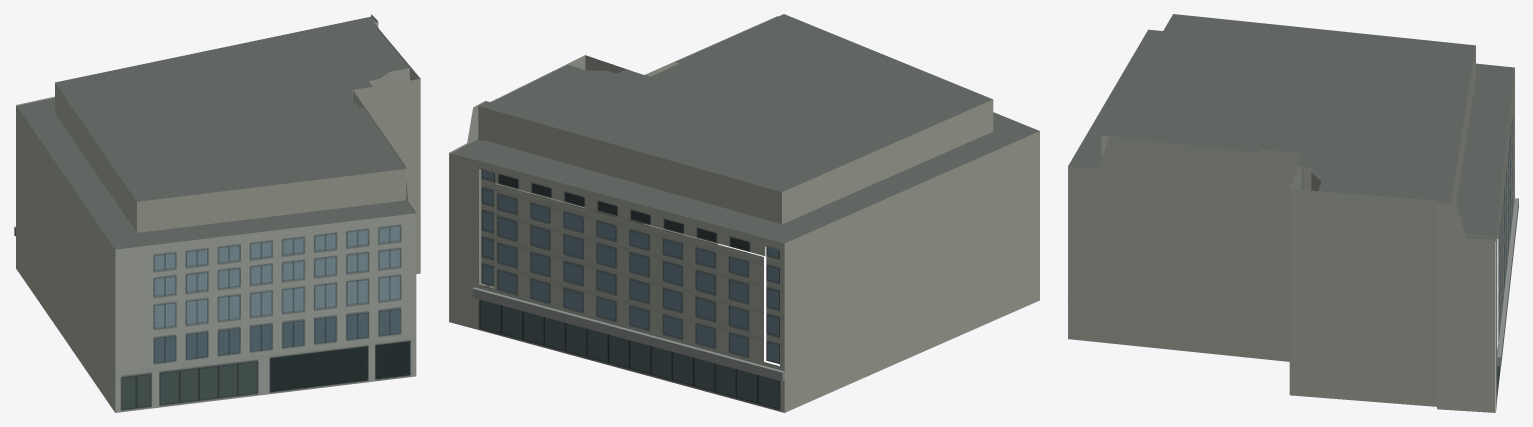
3 renders of one model, left to right at view 1: azimuth 30°, elevation 25°; view 2: azimuth 150°, elevation 25°; view 3: azimuth 270°, elevation 25°, orthographic. The views are drawn at different scales.
Parts seen in each view (by area): view 1: 0363100012168482; view 2: 0363100012168482; view 3: 0363100012168482.
Part boxes in pixels (x1,y1,x2,y2): 0363100012168482: [14, 14, 420, 412]; 0363100012168482: [449, 14, 1039, 412]; 0363100012168482: [1068, 14, 1518, 412].
Bounding box in the file's own units: 47 × 21.53 × 42.61.
Materials: 3 (1 with a texture image).
